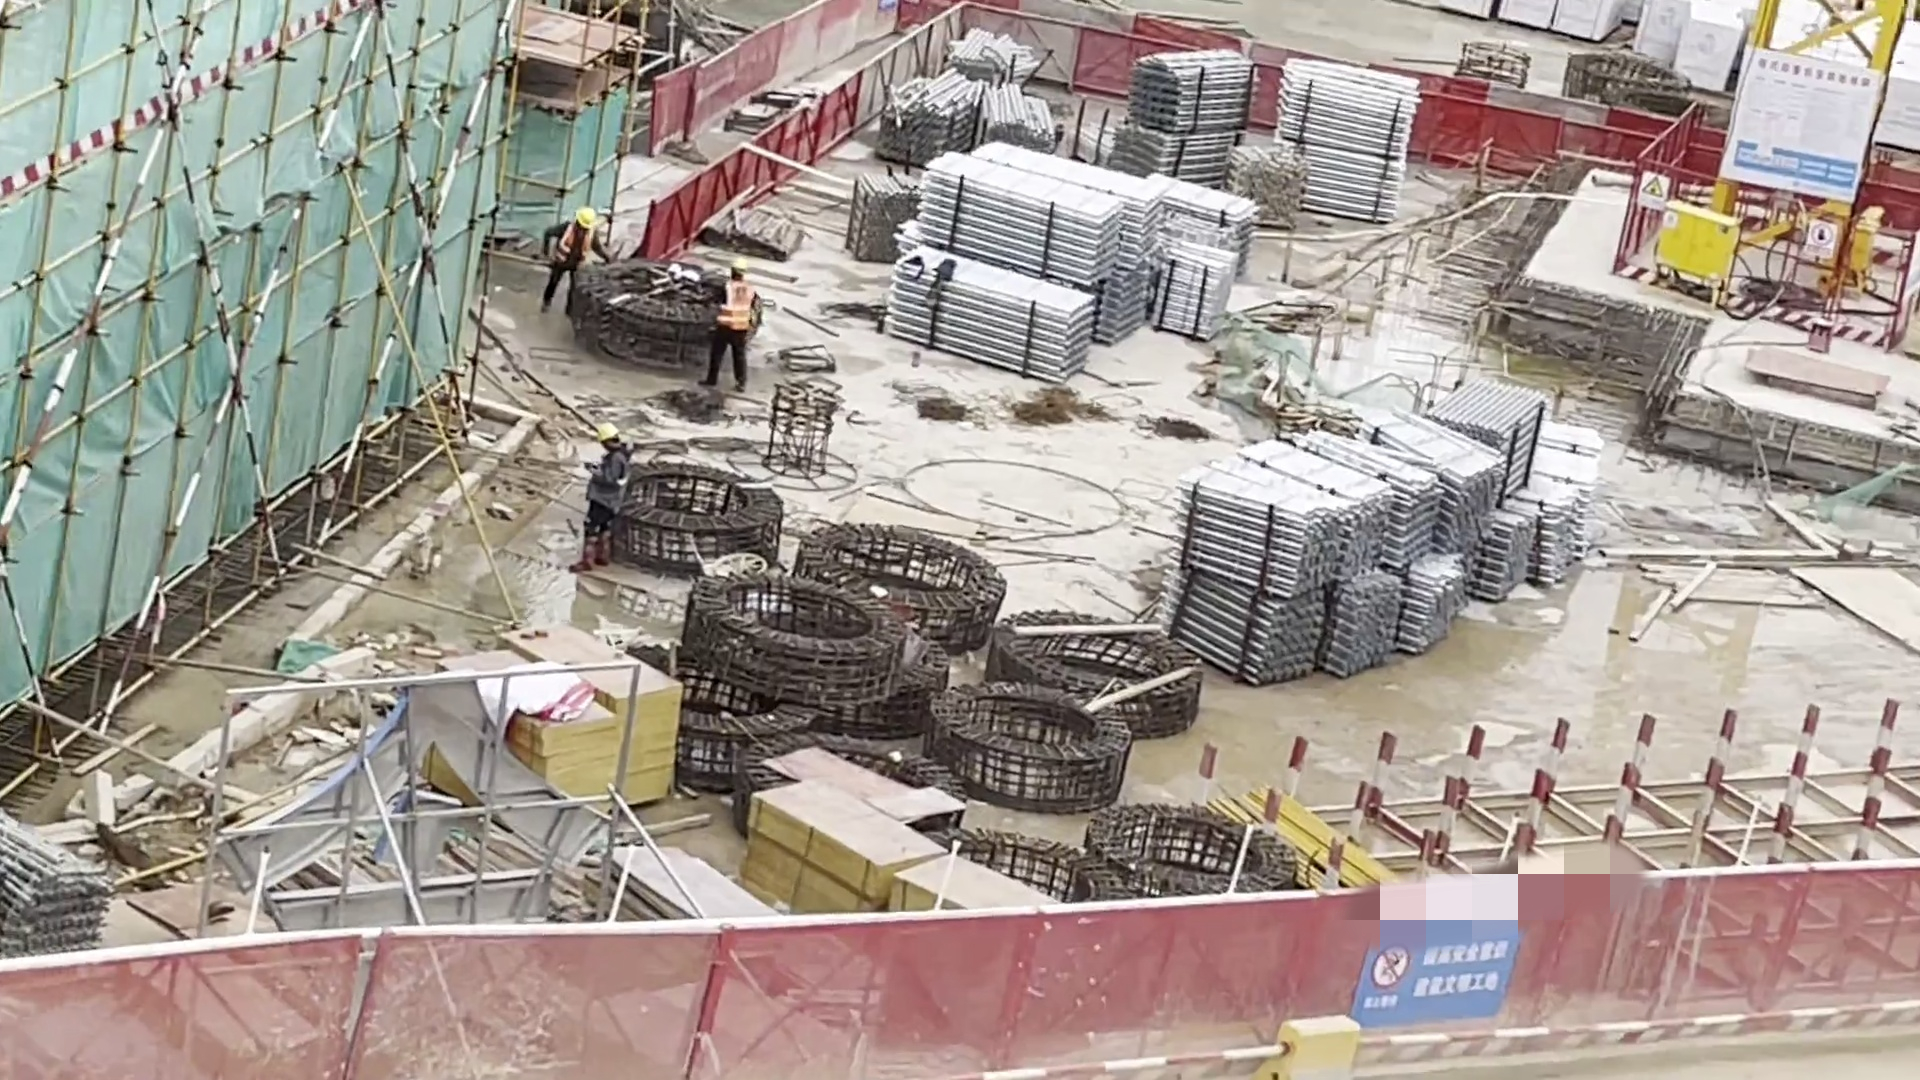board: (738, 779, 1081, 964), (408, 616, 691, 821)
ebox: (1634, 174, 1752, 294), (1810, 196, 1903, 291)
fence: (110, 823, 1859, 1080)
helmet: (576, 202, 599, 228), (729, 255, 754, 277)
person: (702, 251, 764, 403), (536, 199, 593, 316)
scaffold: (1342, 367, 1596, 645), (1164, 457, 1404, 682), (896, 152, 1108, 385), (1277, 53, 1418, 231), (1111, 182, 1250, 345), (1121, 39, 1247, 186), (1, 813, 118, 949), (874, 63, 980, 159), (849, 174, 922, 274), (982, 73, 1057, 157)
slogan: (1354, 924, 1516, 1027)
vest: (713, 275, 754, 336), (554, 218, 596, 265)
